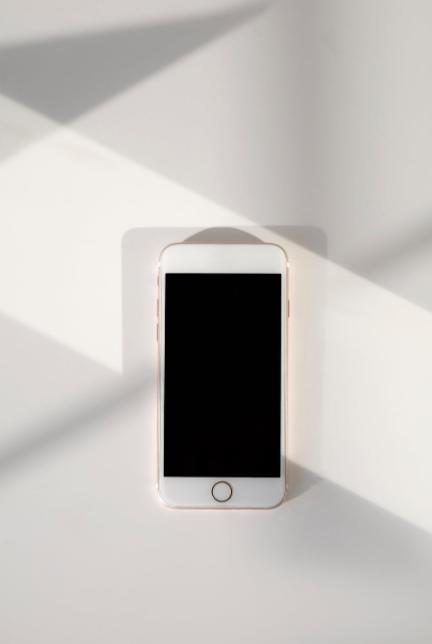mobile: (158, 242, 287, 509)
